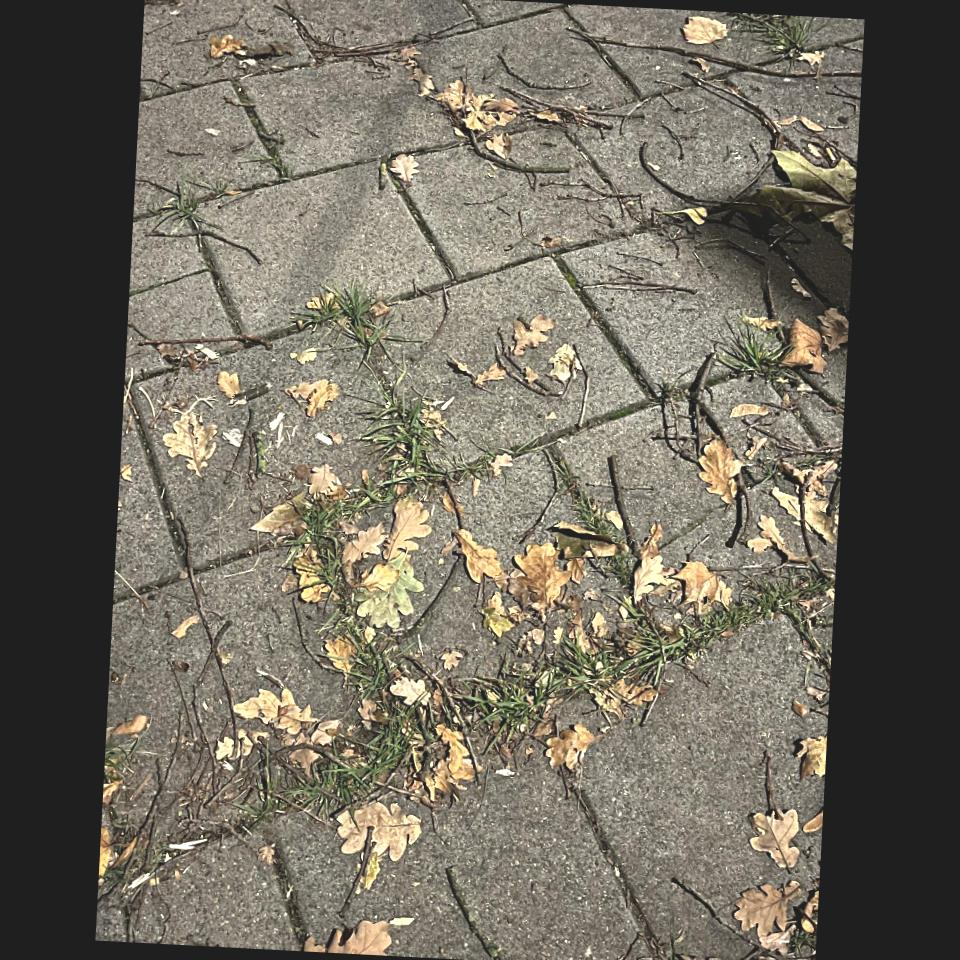weed: (619, 586, 800, 689), (299, 716, 413, 810), (297, 483, 391, 594), (361, 380, 447, 492), (304, 281, 392, 359), (467, 671, 557, 737), (336, 621, 396, 698), (719, 322, 788, 381), (325, 638, 340, 665)
